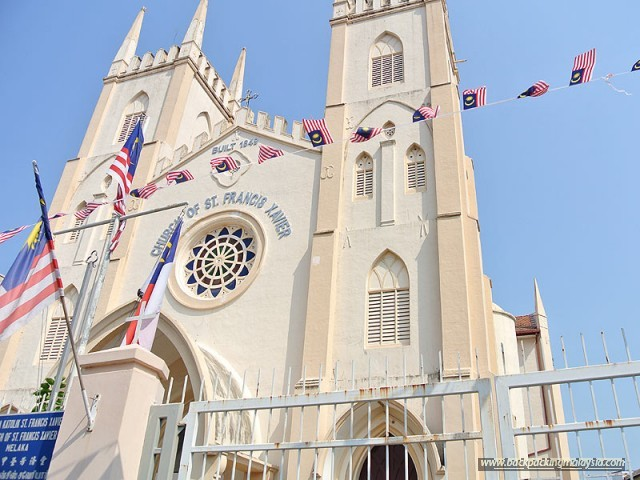Church: (17, 1, 490, 480)
